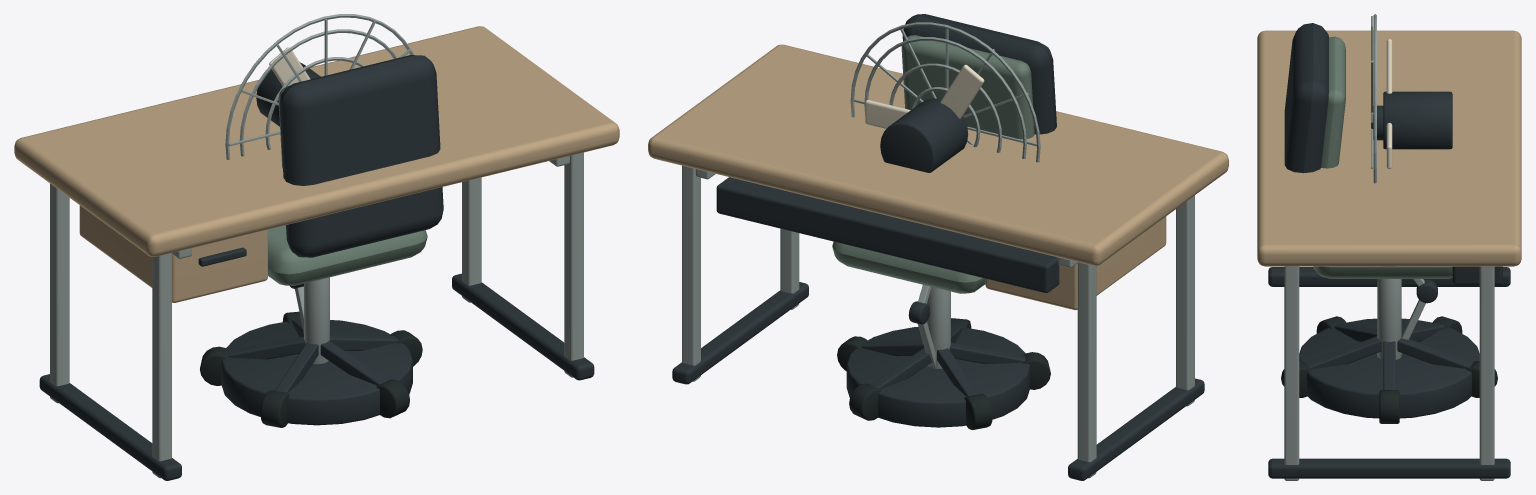
The model's file is office-props.glb.
3 views of the same model, side by side, from view 1: azimuth 30°, elevation 25°; view 2: azimuth 150°, elevation 25°; view 3: azimuth 270°, elevation 25° (orthographic). The views are drawn at different scales.
Visible parts, largest first — view 1: DeskShell, ChairShell, FloorFan, FanRotor; view 2: DeskShell, ChairShell, FloorFan, FanRotor, DeskLamp; view 3: DeskShell, ChairShell, FloorFan, FanRotor, DeskLamp.
Part boxes in pixels (x1,y1,x2,y2): DeskShell: (14, 26, 619, 480); ChairShell: (200, 55, 443, 427); FloorFan: (221, 14, 413, 425); FanRotor: (269, 47, 310, 85); DeskShell: (648, 44, 1228, 480); ChairShell: (832, 14, 1056, 429); FloorFan: (846, 22, 1040, 427); FanRotor: (865, 64, 984, 128); DeskLamp: (908, 285, 935, 367); DeskShell: (1257, 30, 1521, 480); ChairShell: (1281, 23, 1497, 423); FloorFan: (1299, 14, 1479, 418); FanRotor: (1371, 39, 1392, 169); DeskLamp: (1401, 279, 1437, 354).
Bounding box in the file's own units: 1.65 × 1.26 × 0.84.
